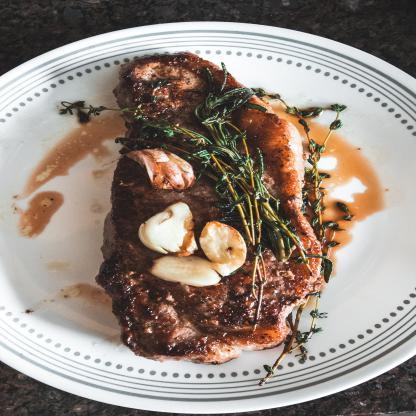Carne: (109, 48, 328, 362)
